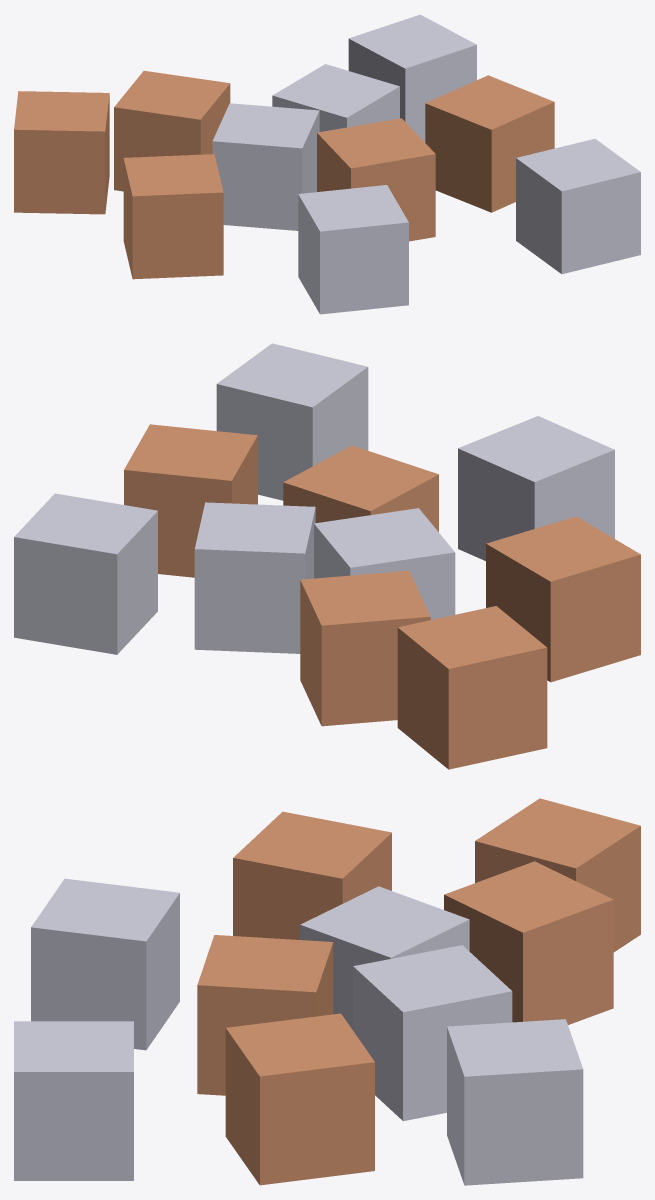
File: shallot-chopped.glb
3 views of the same model, one above another, from view 1: azimuth 30°, elevation 25°; view 2: azimuth 150°, elevation 25°; view 3: azimuth 270°, elevation 25° (orthographic). The views are drawn at different scales.
Visible parts, largest first — view 1: shallot-chopped; view 2: shallot-chopped; view 3: shallot-chopped.
Boxes of the visible parts, x1,y1,x2,y2 form: shallot-chopped: [14, 14, 640, 314]; shallot-chopped: [14, 343, 640, 769]; shallot-chopped: [14, 798, 640, 1185].
Bounding box in the file's own units: 0.1645 × 0.03 × 0.1565.
Materials: 1 (1 with a texture image).
